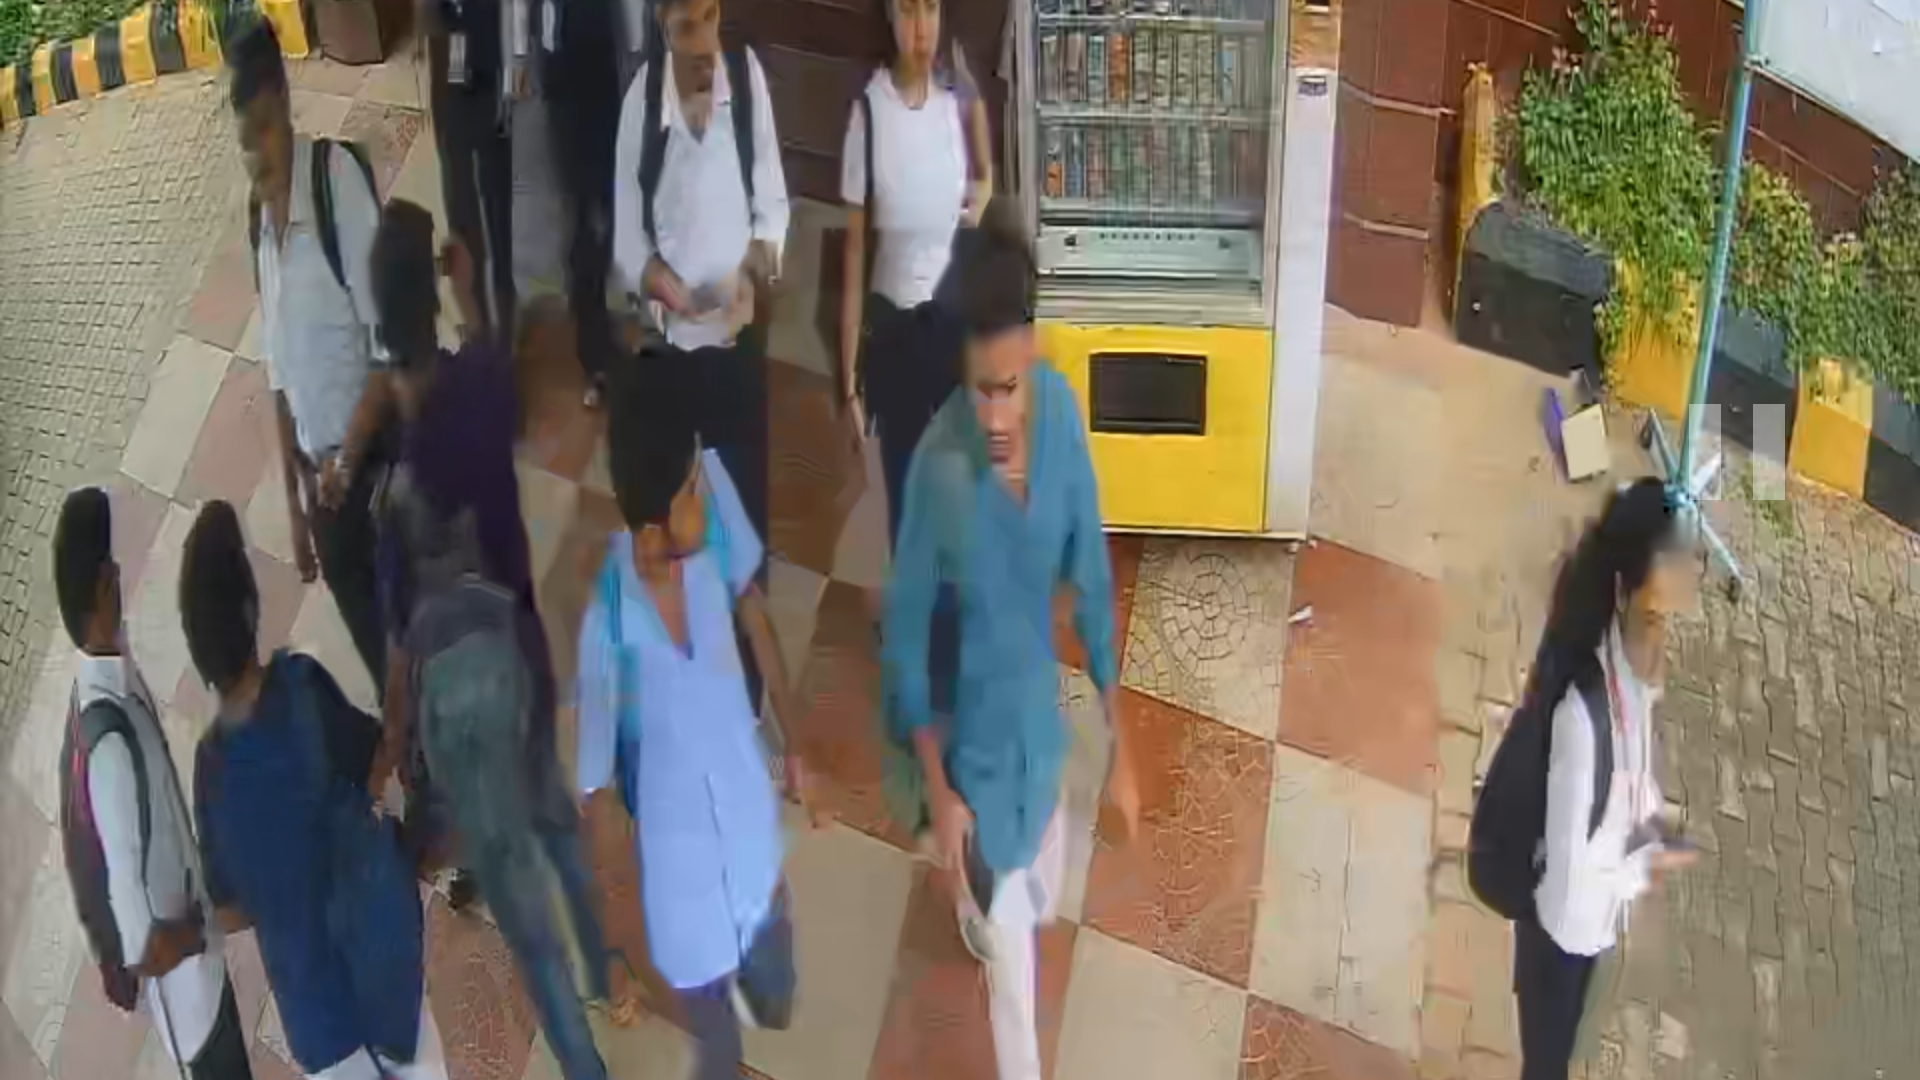intruder: (884, 282, 1131, 1080), (574, 367, 833, 1080), (621, 3, 833, 452), (853, 1, 986, 429)
